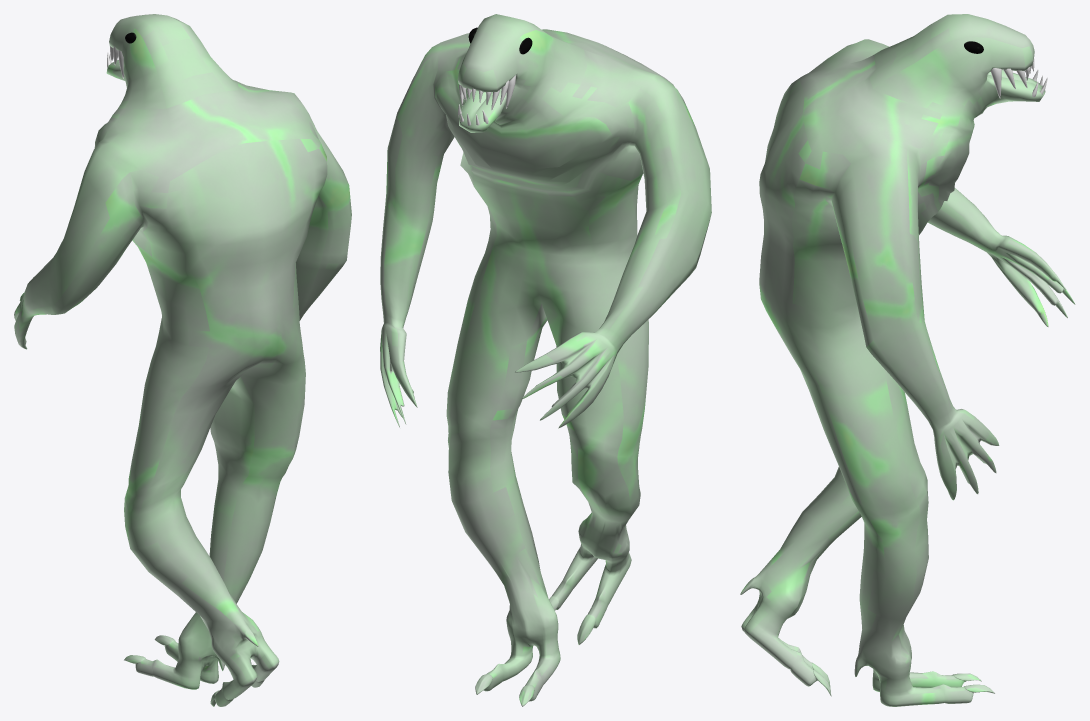
File: Berserkercorrer.0096.obj
3 renders of one model, left to right at view 1: azimuth 30°, elevation 25°; view 2: azimuth 150°, elevation 25°; view 3: azimuth 270°, elevation 25°, orthographic. The views are drawn at different scales.
Visible parts, largest first — view 1: polySurface27; view 2: polySurface27; view 3: polySurface27.
Boxes of the visible parts, <box> form: polySurface27: <box>14,14,351,706</box>; polySurface27: <box>380,14,711,706</box>; polySurface27: <box>740,14,1075,706</box>.
Size of the model in its own units: 11.22 by 23.89 by 10.66.
Materials: 1 (1 with a texture image).
